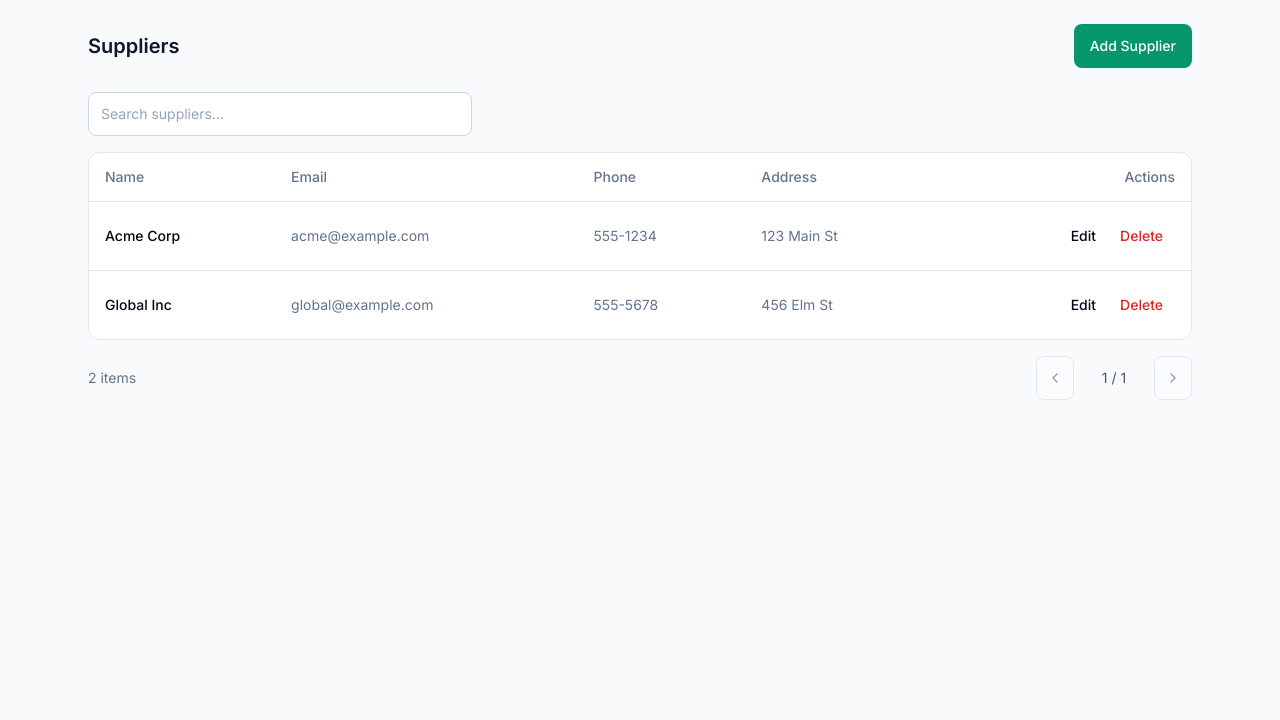
Test: SuppliersPage › cancels delete dialog
Click the button "Delete" in the row of "Acme Corp" at (1142, 236), box [1108, 218, 1175, 254]
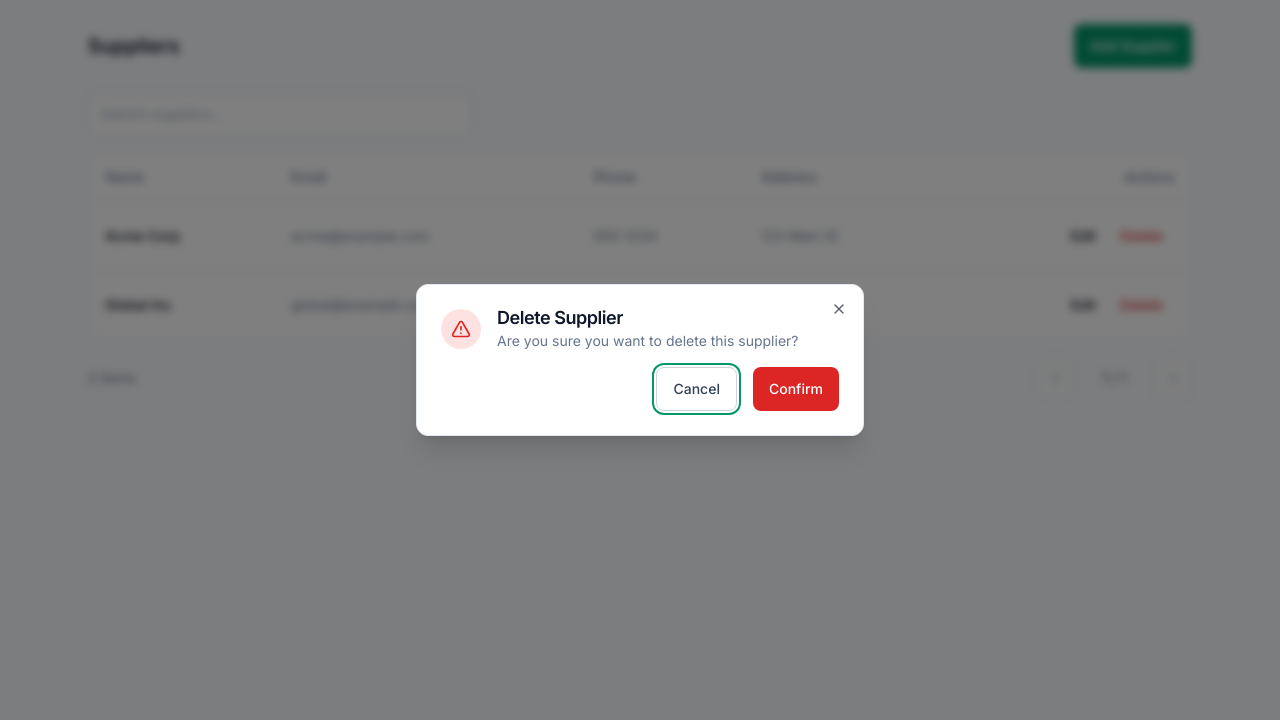
Click the button "Cancel" at (697, 389), box [656, 367, 737, 411]
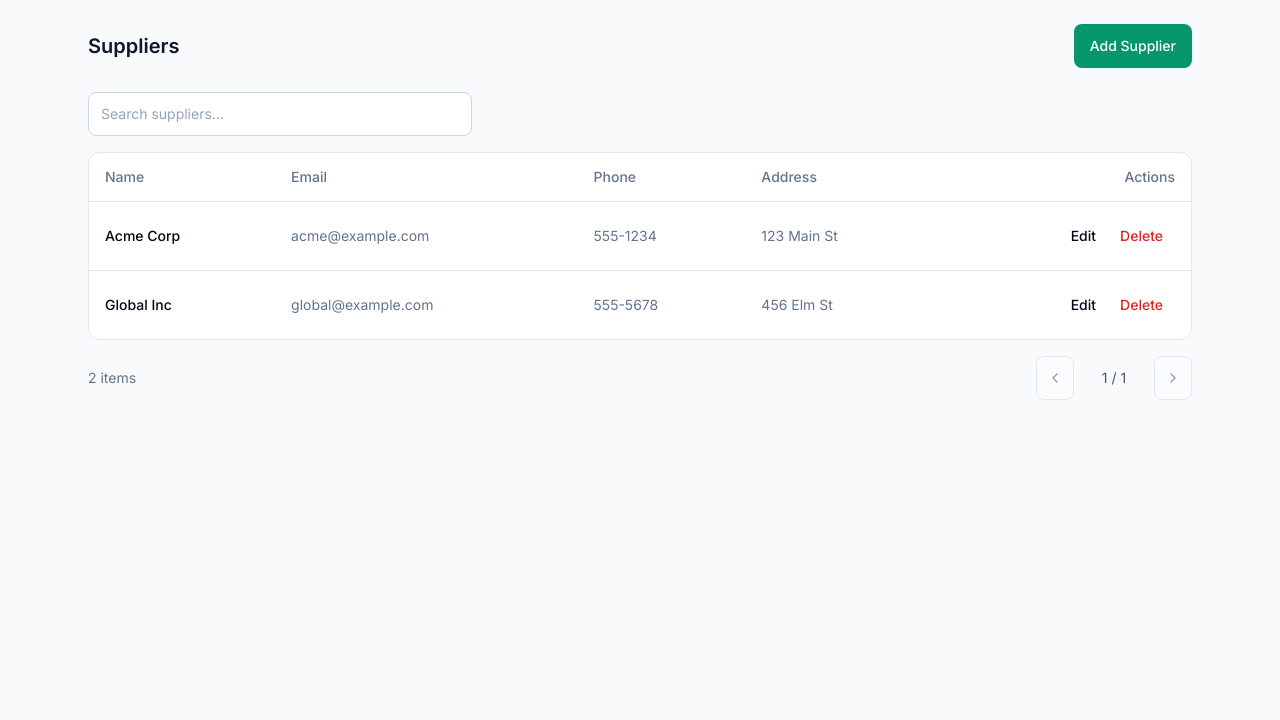
Now the dialog is gone
